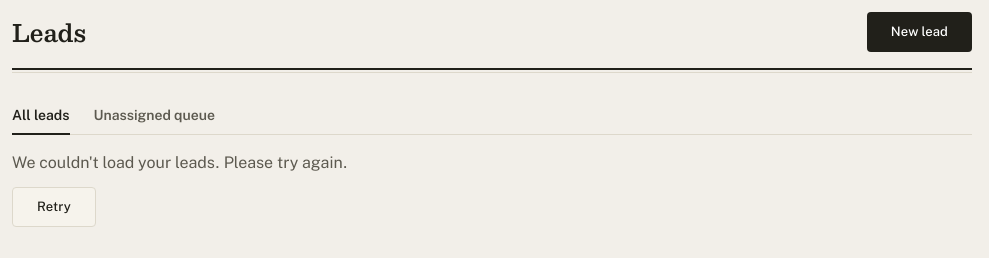
Test case: LeadsListPage empty + error states › shows a leads fetch error and retries
Check: the element with id "leads-list-leads-error" is shown, box [12,153,348,227]
Click the button with id "leads-list-leads-error-retry-button" at (54, 207), box [12,187,96,227]
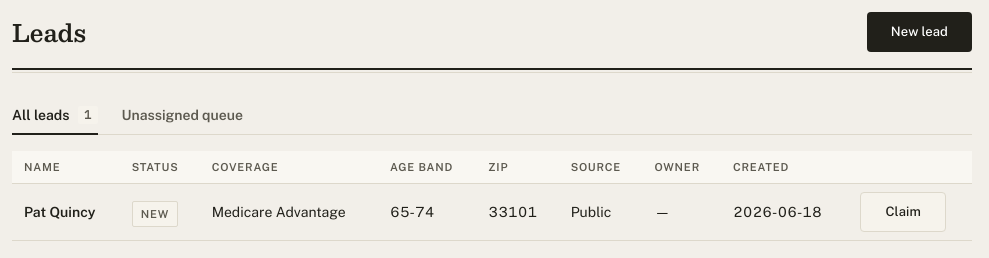
Check: the row with id "leads-list-row-lead-a" is shown, box [12,184,972,240]
